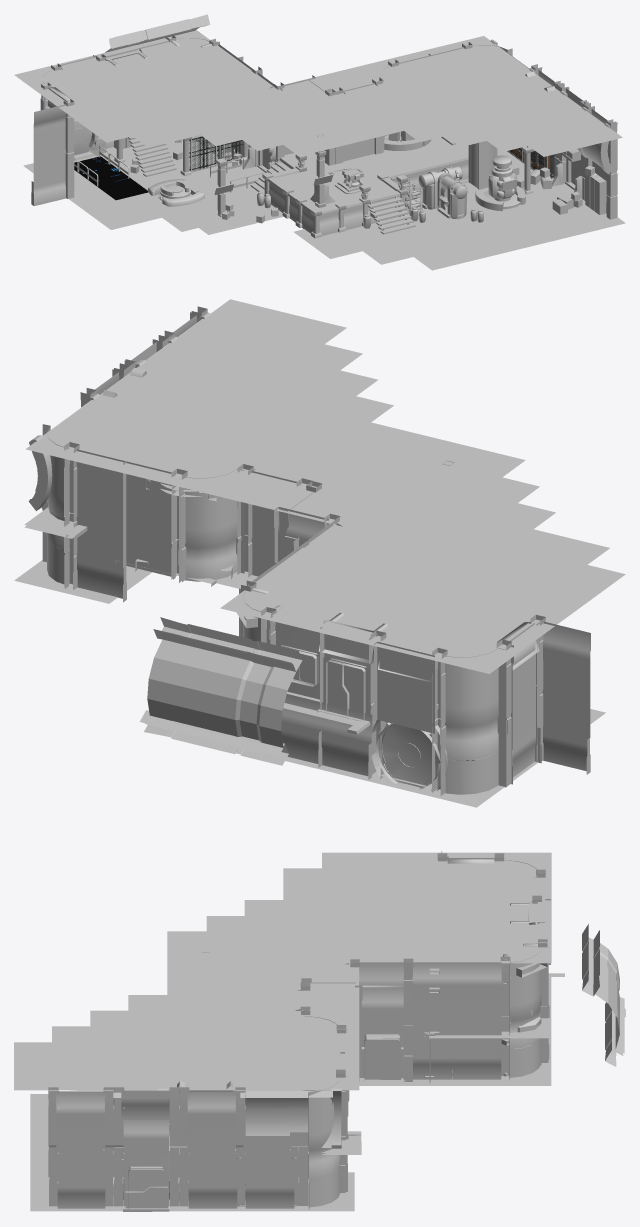
The model's file is Hangar002f.fbx.
The picture shows the model from 3 angles, top to bottom: view 1: azimuth 30°, elevation 25°; view 2: azimuth 150°, elevation 25°; view 3: azimuth 270°, elevation 25°; orthographic projection. The views are drawn at different scales.
Visible parts, largest first — view 1: Hangar002f, ceiling01, ceiling02, floor03, floor02, floor01, Glow, function_01, function_05, out_wall, door, function_02 (+2 smaller); view 2: Hangar002f, ceiling01, ceiling02, out_wall, door, floor02, floor03; view 3: Hangar002f, ceiling01, ceiling02, floor03, door, out_wall, floor02, floor05, function_04.
Boxes of the visible parts, bbox=[...] form: Hangar002f: bbox=[31, 35, 617, 238]; ceiling01: bbox=[14, 30, 376, 156]; ceiling02: bbox=[300, 36, 622, 156]; floor03: bbox=[293, 149, 625, 270]; floor02: bbox=[23, 138, 283, 234]; floor01: bbox=[276, 136, 468, 209]; Glow: bbox=[74, 137, 451, 234]; function_01: bbox=[418, 166, 467, 219]; function_05: bbox=[475, 155, 525, 211]; out_wall: bbox=[105, 14, 210, 52]; door: bbox=[73, 71, 581, 184]; function_02: bbox=[148, 179, 204, 206]; Hangar002f: bbox=[24, 306, 590, 795]; ceiling01: bbox=[220, 432, 625, 673]; ceiling02: bbox=[25, 299, 409, 515]; out_wall: bbox=[139, 617, 302, 765]; door: bbox=[102, 368, 463, 790]; floor02: bbox=[285, 709, 605, 807]; floor03: bbox=[14, 560, 151, 603]; Hangar002f: bbox=[48, 851, 564, 1211]; ceiling01: bbox=[167, 852, 551, 978]; ceiling02: bbox=[14, 979, 359, 1090]; floor03: bbox=[30, 1090, 354, 1211]; door: bbox=[125, 1038, 400, 1208]; out_wall: bbox=[582, 924, 625, 1066]; floor02: bbox=[359, 977, 551, 1085]; floor05: bbox=[429, 977, 550, 1038]; function_04: bbox=[452, 963, 547, 1076].
Bounding box in the file's own units: 50502 × 11647 × 50434.
